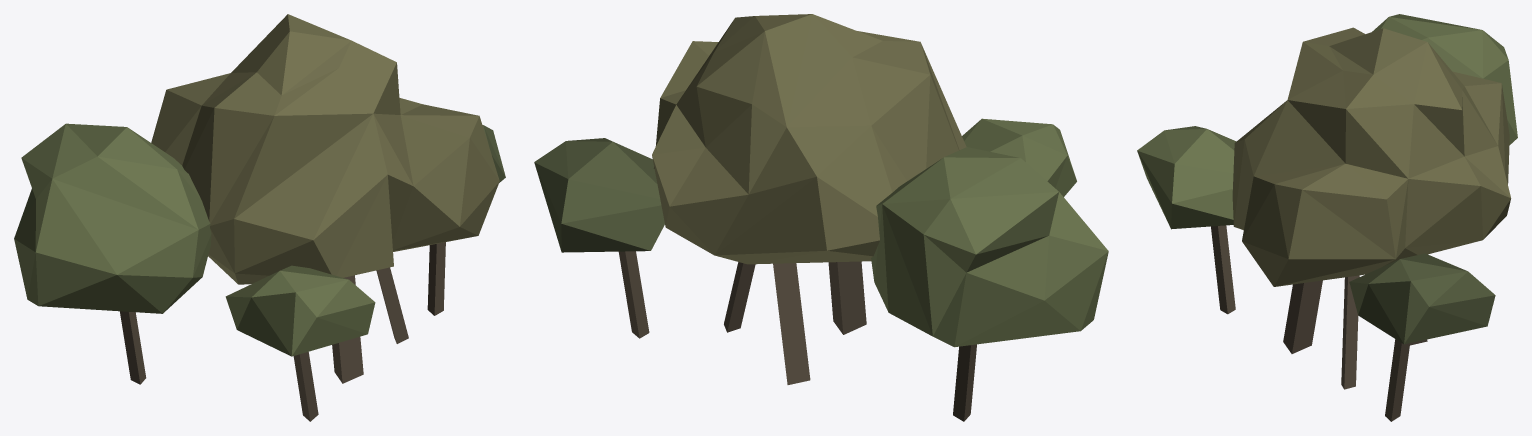
Rendered from SM_Env_Bush_Group_01.glb.
3 renders of one model, left to right at view 1: azimuth 30°, elevation 25°; view 2: azimuth 150°, elevation 25°; view 3: azimuth 270°, elevation 25°, orthographic. The views are drawn at different scales.
Visible parts, largest first — view 1: SM_Env_Bush_Group_01; view 2: SM_Env_Bush_Group_01; view 3: SM_Env_Bush_Group_01.
Part boxes in pixels (x1,y1,x2,y2): SM_Env_Bush_Group_01: (14,14,505,421); SM_Env_Bush_Group_01: (534,14,1108,421); SM_Env_Bush_Group_01: (1137,14,1517,421).
Bounding box in the file's own units: 2.96 × 1.87 × 2.03.
1 material, 1 textured.
